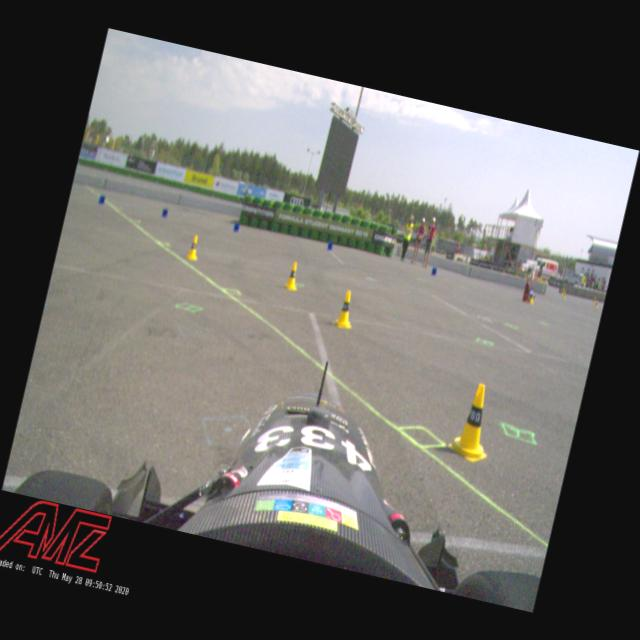blue_cone: (160, 207, 168, 218), (98, 194, 105, 204), (232, 222, 239, 232), (326, 240, 333, 250), (430, 266, 437, 276)
yellow_cone: (446, 379, 502, 465), (333, 288, 358, 329), (282, 260, 302, 290), (186, 233, 202, 260), (594, 298, 598, 308), (562, 290, 566, 298), (560, 288, 564, 295), (592, 296, 596, 302)
